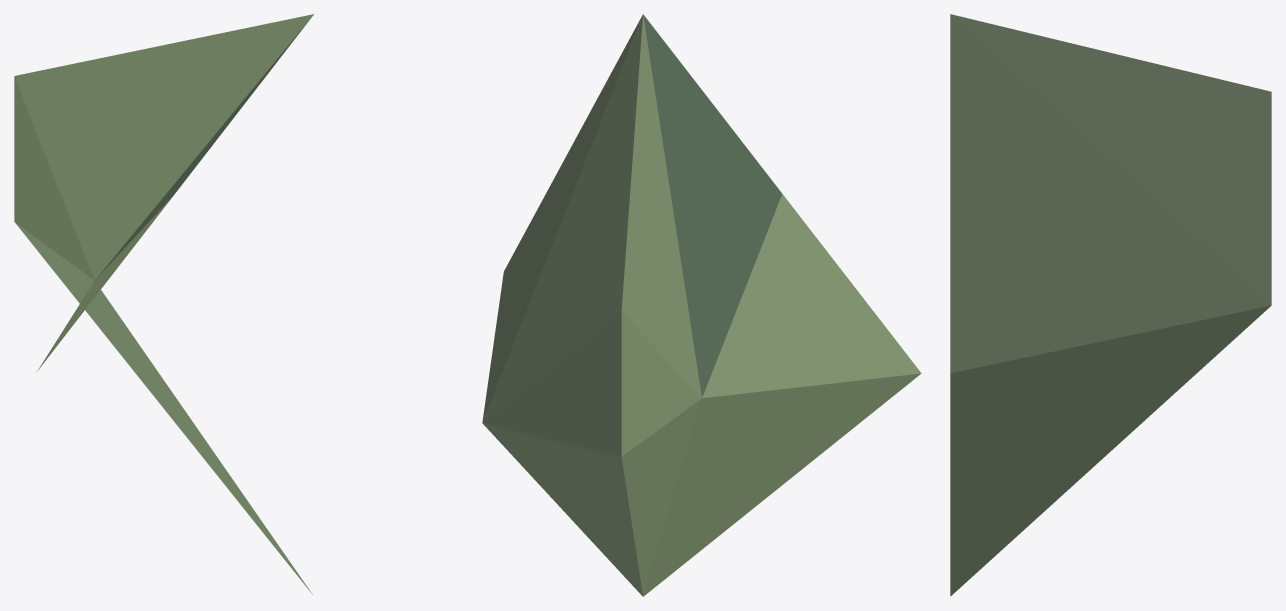
3 views of the same model, side by side, from view 1: azimuth 30°, elevation 25°; view 2: azimuth 150°, elevation 25°; view 3: azimuth 270°, elevation 25° (orthographic).
Bounding box in the file's own units: 0.00577 × 0.00769 × 0.00385.
1 material, 1 textured.
